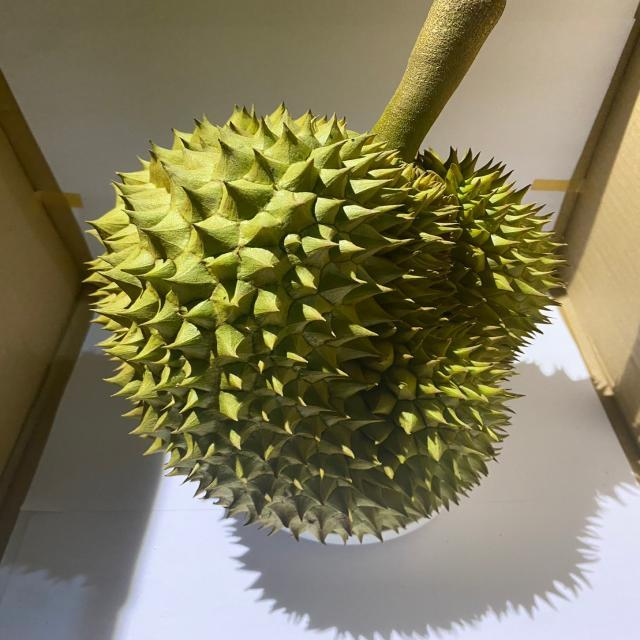immature: (78, 101, 568, 549)
